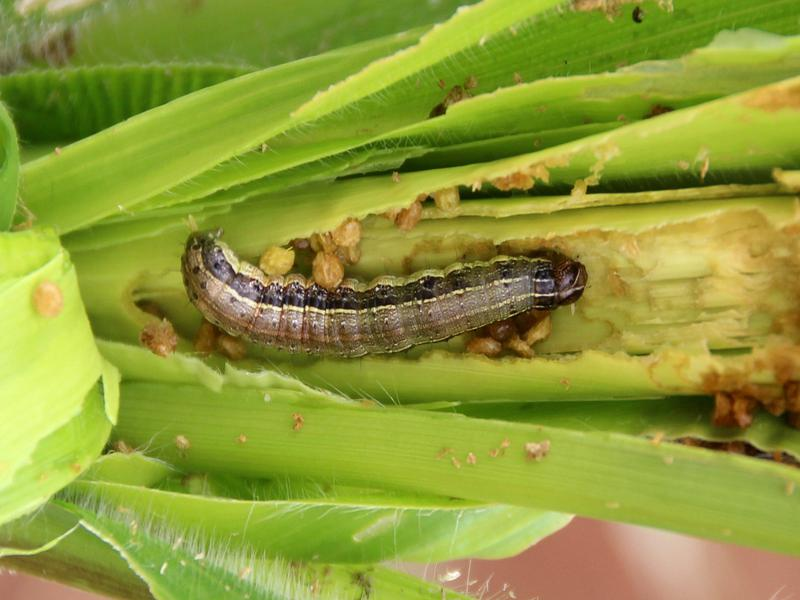Armyworms: (162, 211, 596, 386)
